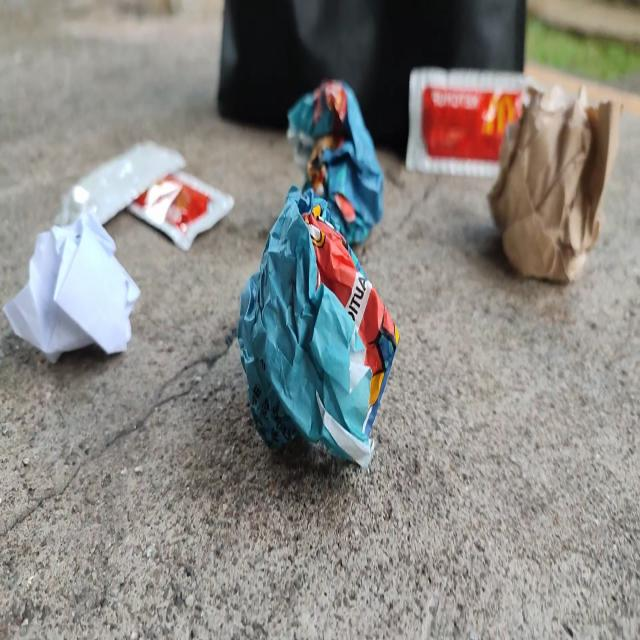paper: (226, 175, 428, 471), (490, 76, 619, 288), (2, 222, 138, 384), (282, 62, 378, 260)
